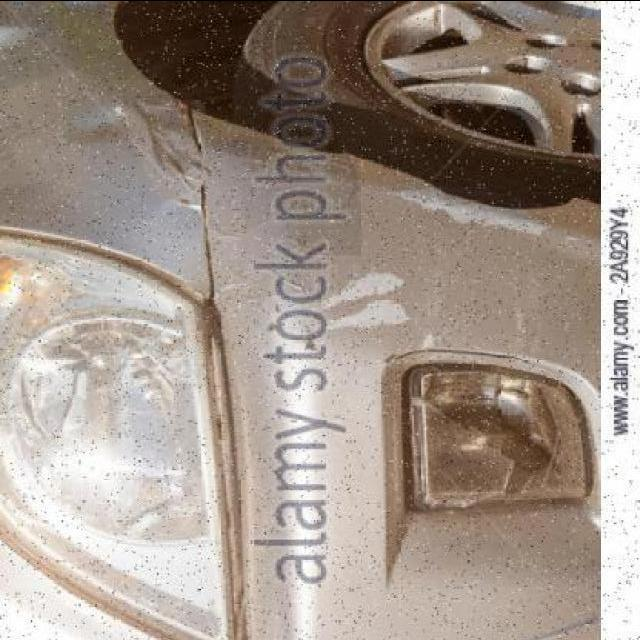fender-dent: (0, 1, 312, 271)
front-bumper-dent: (202, 37, 605, 640)
